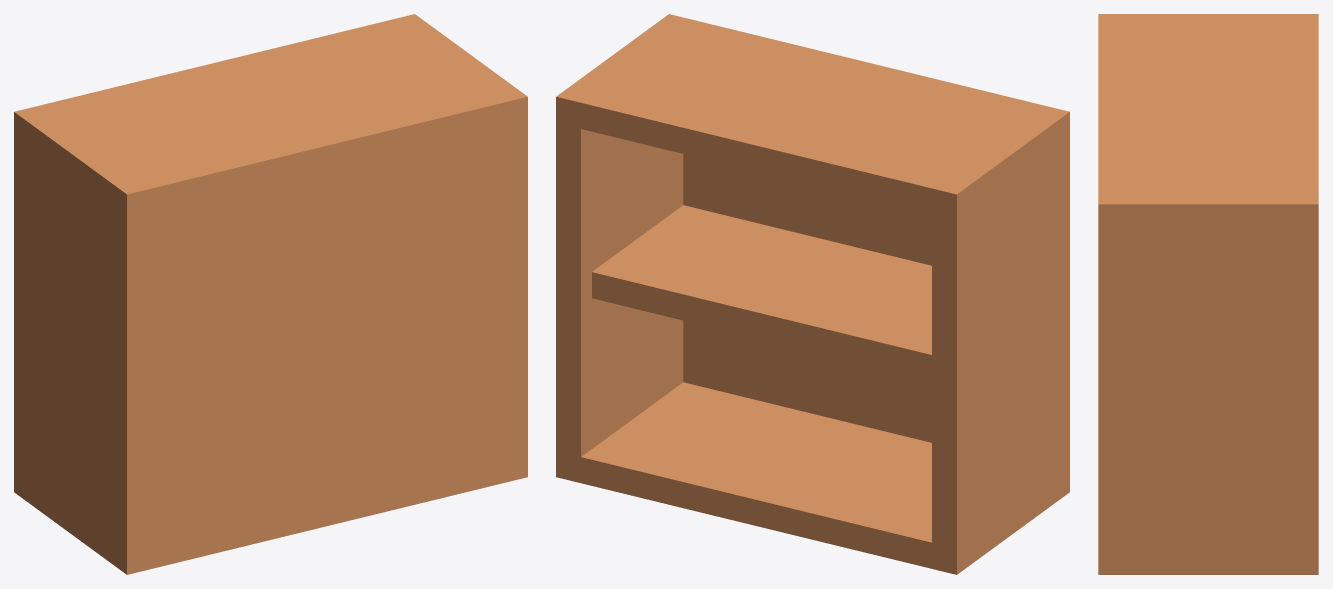
Rendered from KitchenCabinetUpper.glb.
The picture shows the model from 3 angles, left to right: view 1: azimuth 30°, elevation 25°; view 2: azimuth 150°, elevation 25°; view 3: azimuth 270°, elevation 25°; orthographic projection. The views are drawn at different scales.
Parts seen in each view (by area): view 1: KitchenCabinetUpper; view 2: KitchenCabinetUpper; view 3: KitchenCabinetUpper.
Part boxes in pixels (x1,y1,x2,y2): KitchenCabinetUpper: [14, 14, 527, 574]; KitchenCabinetUpper: [556, 14, 1069, 574]; KitchenCabinetUpper: [1098, 14, 1318, 574].
Size of the model in its own units: 0.9952 by 0.9027 by 0.4861.
